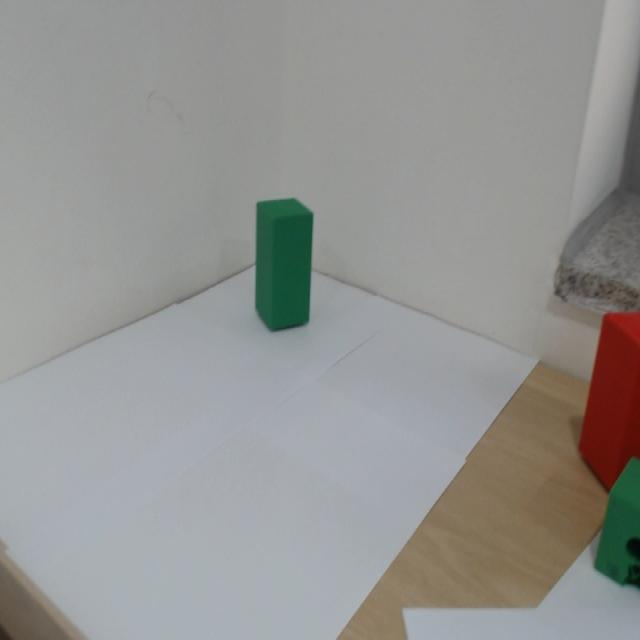cube: (210, 163, 354, 364)
